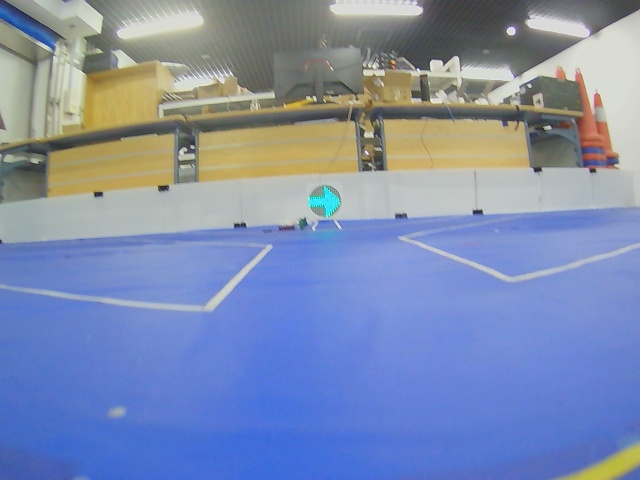right_green: (308, 185, 342, 218)
